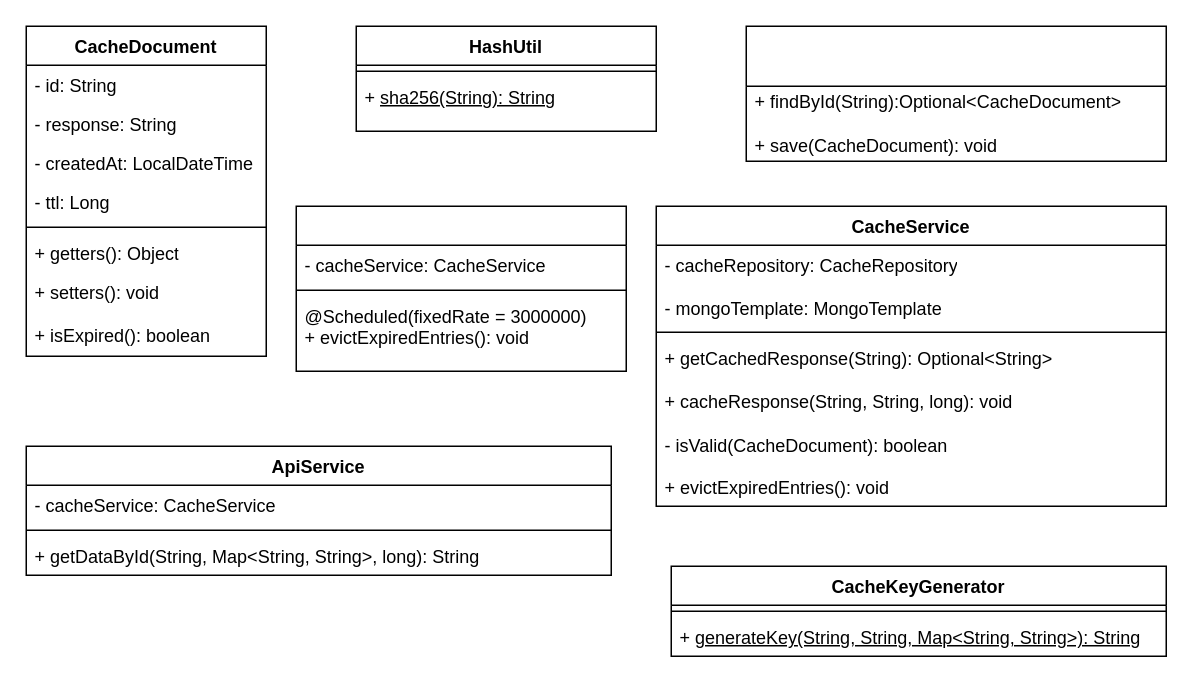
Image size: 1193x687. Some labels were removed from this diagram. Here are the shapes that lost their labels. From the top down, the box of each, then its label:
(745, 25, 1166, 161): <<interface>> CacheRepository
(295, 205, 626, 371): CacheEvictionScheduler
